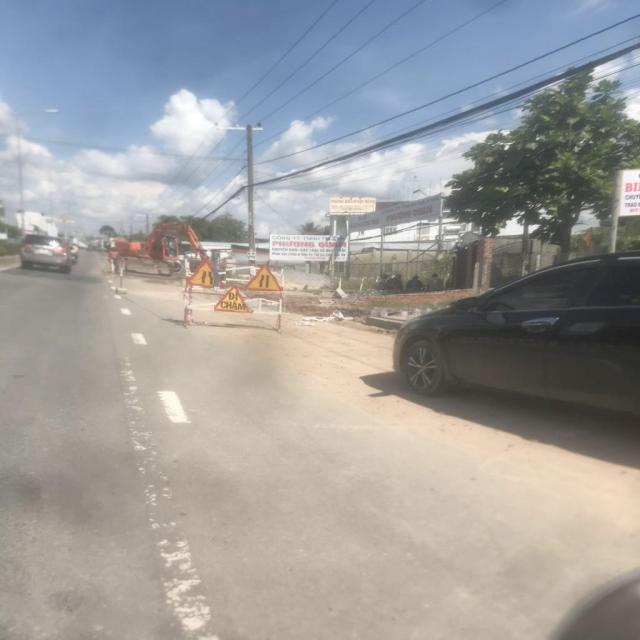di_cham: (214, 285, 254, 312)
khac: (184, 258, 227, 288), (242, 262, 284, 291)
